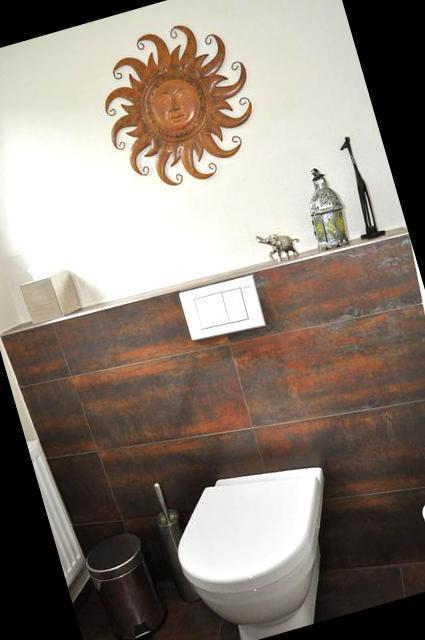Bote de Basura: (71, 521, 173, 640)
Sanitario: (152, 438, 361, 640)
